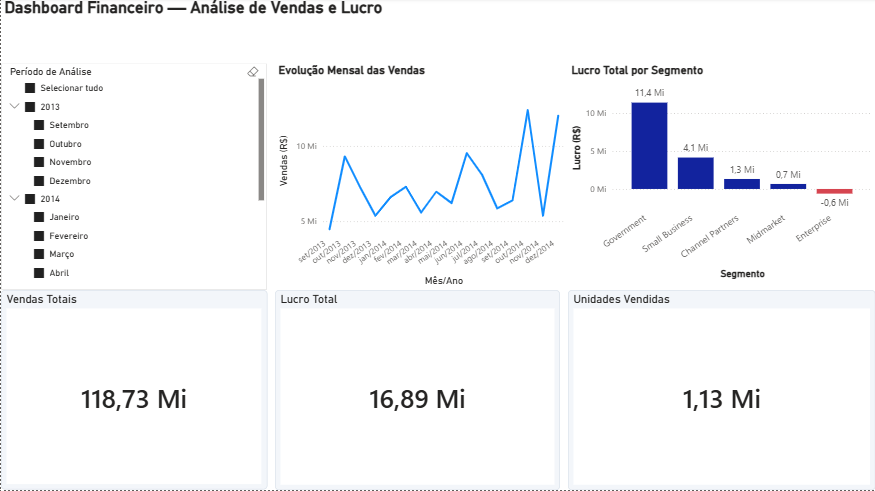

The page's visual inventory and layout, read from the dashboard file:
{"tool":"powerbi","page":{"name":"Página 1","canvas":[1280,720],"ordinal":0},"visuals":[{"type":"slicer","fields":{"Values":["financials.Year","financials.Mes"]},"box":[0,95.7,389.7,330.9],"z":0},{"type":"clusteredColumnChart","title":"Vendas Totais por Produto","fields":{"Category":["financials.Product"],"Y":["Sum(financials. Sales)"]},"box":[401.5,95.7,416.6,320.8],"z":1000},{"type":"clusteredColumnChart","title":"Lucro Total por Segmento","fields":{"Category":["financials.Segment"],"Y":["Sum(financials.Profit)"]},"box":[829.8,95.7,450.2,320.8],"z":2000},{"type":"cardVisual","title":"Vendas Totais","fields":{"Data":["Sum(financials. Sales)"]},"box":[0,426.7,389.7,292.3],"z":3000},{"type":"cardVisual","title":"Lucro Total","fields":{"Data":["Sum(financials.Profit)"]},"box":[401.4,426.7,417,293],"z":4000},{"type":"cardVisual","title":"Unidades Vendidas","fields":{"Data":["Sum(financials.Units Sold)"]},"box":[830,426.7,450,293],"z":5000},{"type":"textbox","title":"Dashboard Financeiro — Análise de Vendas e Lucro","box":[0,0,571.1,95.7],"z":6000},{"type":"lineChart","title":"Evolução Mensal das Vendas","fields":{"Category":["financials.MesAno"],"Y":["Sum(financials. Sales)"]},"box":[401.5,95.7,428.3,330.9],"z":7000}]}

Visuals, with their boxes in screenshot pixels (x1, y1, x2, y2), scaled from the page's 1280x720 canvas onto the 875x491 screenshot:
slicer - financials.Year x financials.Mes: bbox(0, 65, 266, 291)
"Vendas Totais por Produto" clusteredColumnChart: bbox(274, 65, 559, 284)
"Lucro Total por Segmento" clusteredColumnChart: bbox(567, 65, 874, 284)
"Vendas Totais" cardVisual: bbox(0, 291, 266, 490)
"Lucro Total" cardVisual: bbox(274, 291, 559, 490)
"Unidades Vendidas" cardVisual: bbox(567, 291, 874, 490)
"Dashboard Financeiro — Análise de Vendas e Lucro" textbox: bbox(0, 0, 390, 65)
"Evolução Mensal das Vendas" lineChart: bbox(274, 65, 567, 291)
